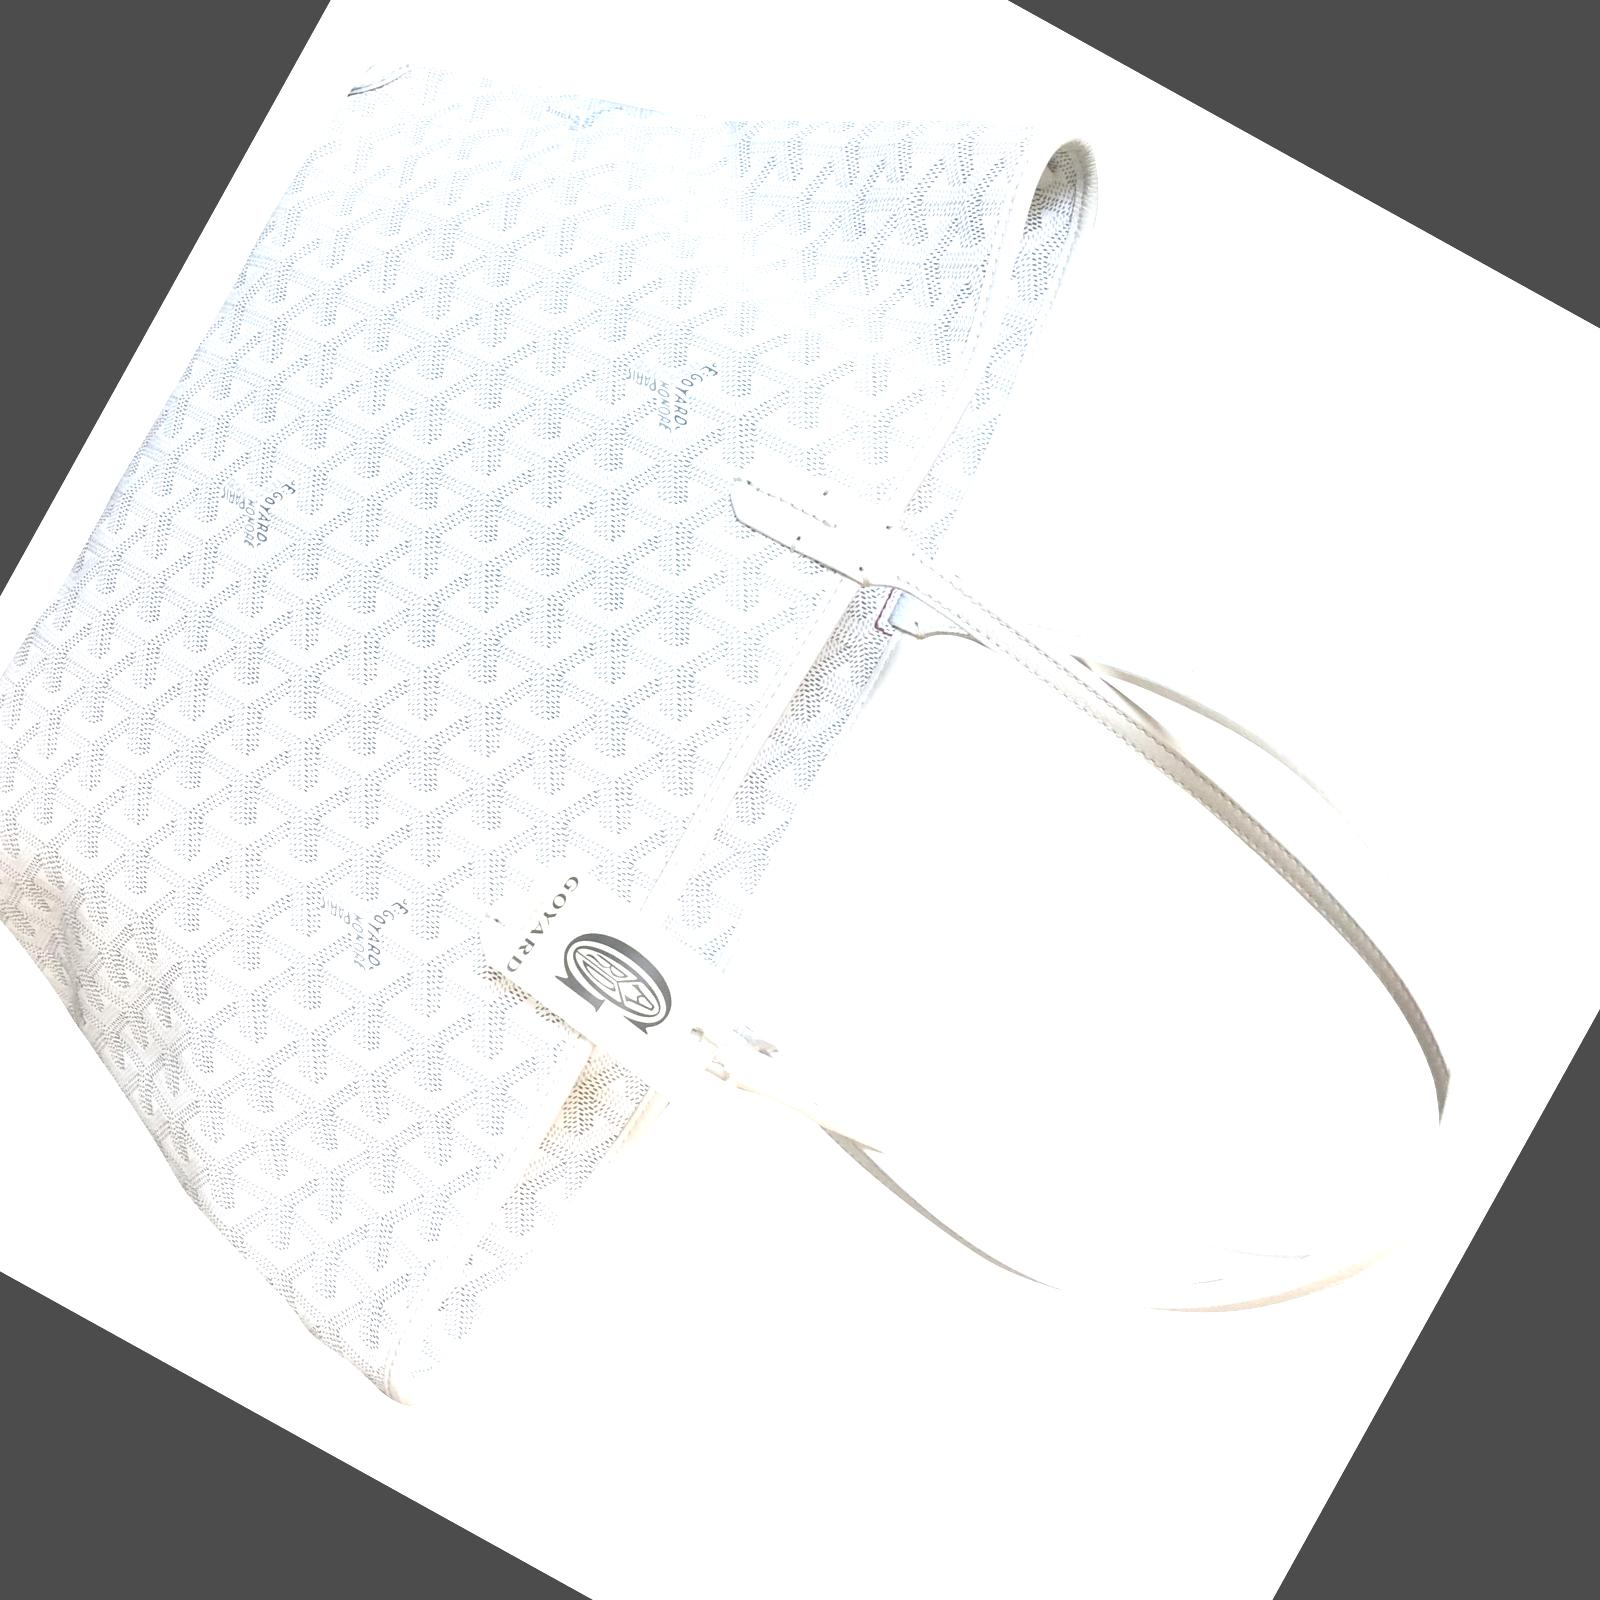GOYARD: (0, 0, 1158, 1437)
